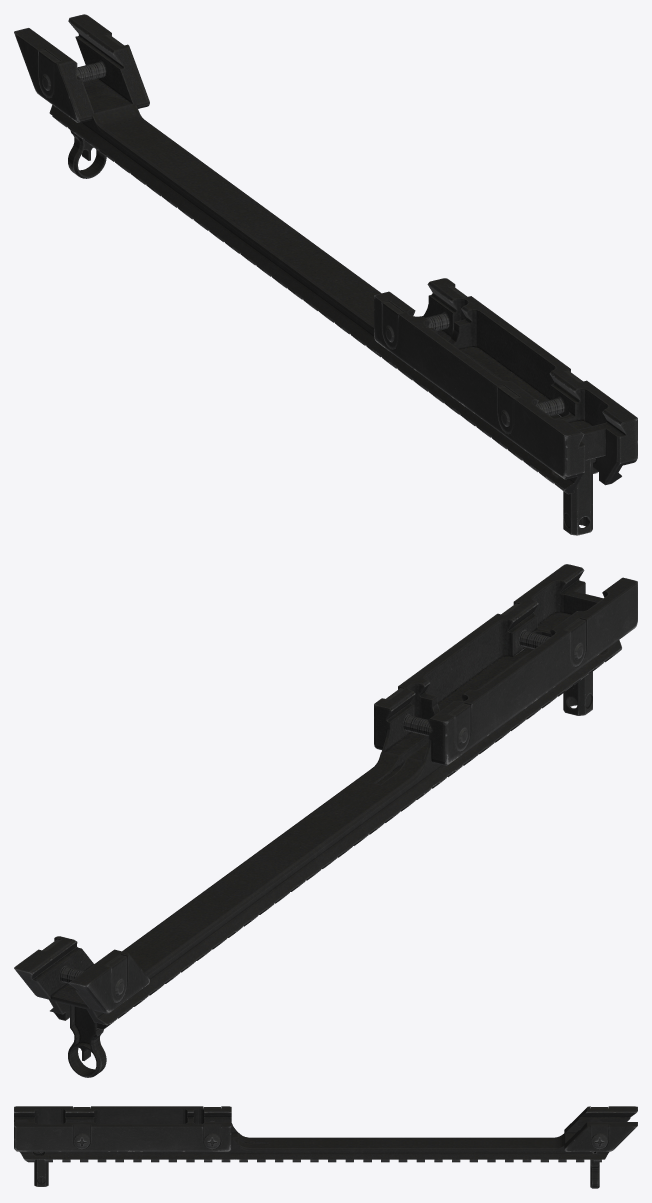
3 renders of one model, top to bottom at view 1: azimuth 30°, elevation 25°; view 2: azimuth 150°, elevation 25°; view 3: azimuth 270°, elevation 25°, orthographic. The views are drawn at different scales.
Parts seen in each view (by area): view 1: TW_622b3d5cf9cfc87d675d2de9_PZ_Import; view 2: TW_622b3d5cf9cfc87d675d2de9_PZ_Import; view 3: TW_622b3d5cf9cfc87d675d2de9_PZ_Import.
Part boxes in pixels (x1=…): TW_622b3d5cf9cfc87d675d2de9_PZ_Import: x1=14, y1=14, x2=637, y2=535; TW_622b3d5cf9cfc87d675d2de9_PZ_Import: x1=14, y1=564, x2=637, y2=1077; TW_622b3d5cf9cfc87d675d2de9_PZ_Import: x1=14, y1=1106, x2=637, y2=1188.
Size of the model in its own units: 0.0165 by 0.2038 by 0.0256.
Materials: 1 (1 with a texture image).
